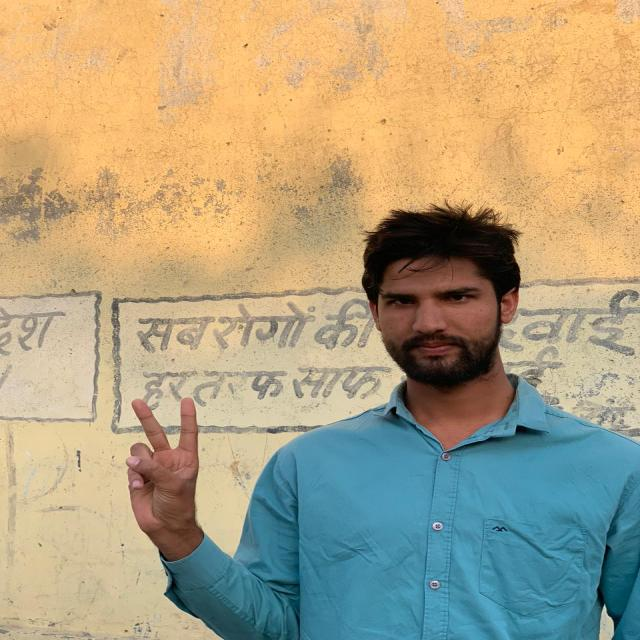Victory: (117, 389, 220, 547)
